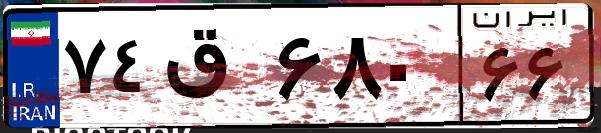0: (385, 28, 445, 110)
4: (110, 28, 158, 98)
6: (270, 28, 330, 110), (475, 38, 525, 113), (525, 38, 570, 115)
7: (57, 26, 110, 100)
8: (330, 28, 385, 110)
ق: (158, 20, 270, 120)
